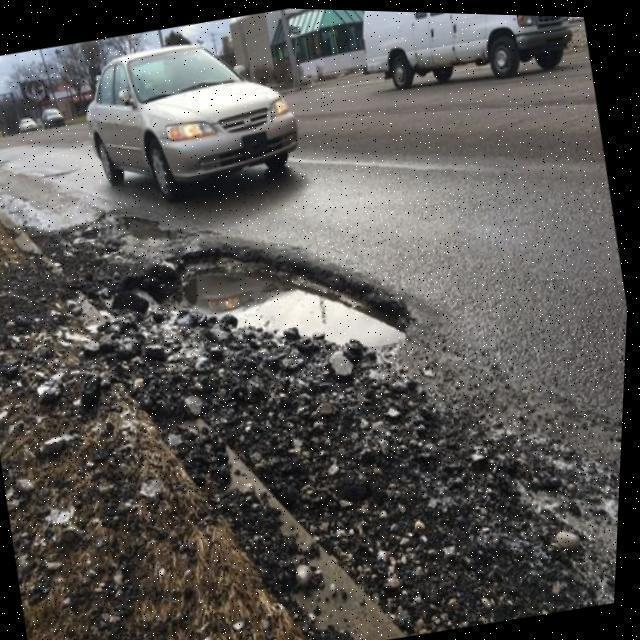Pothole: (107, 239, 415, 361)
